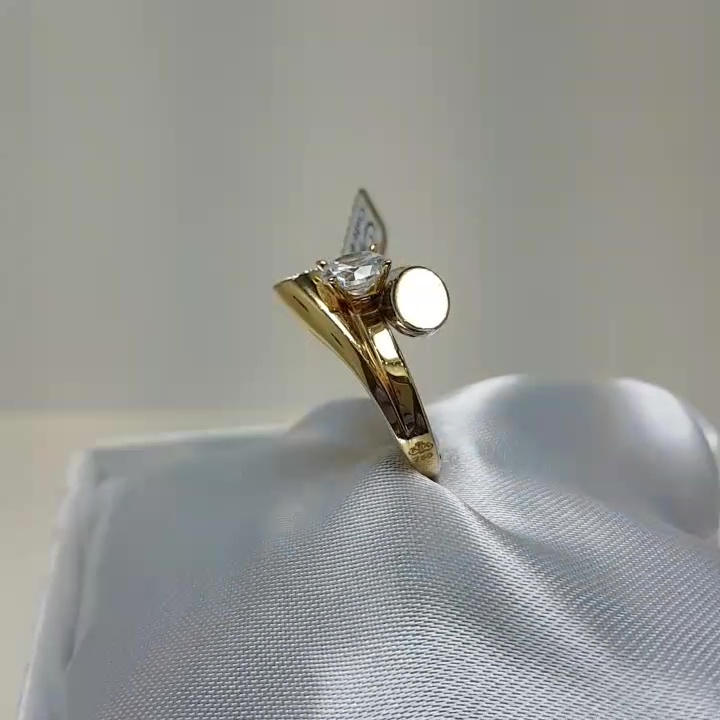Ring 7: (260, 217, 483, 488)
